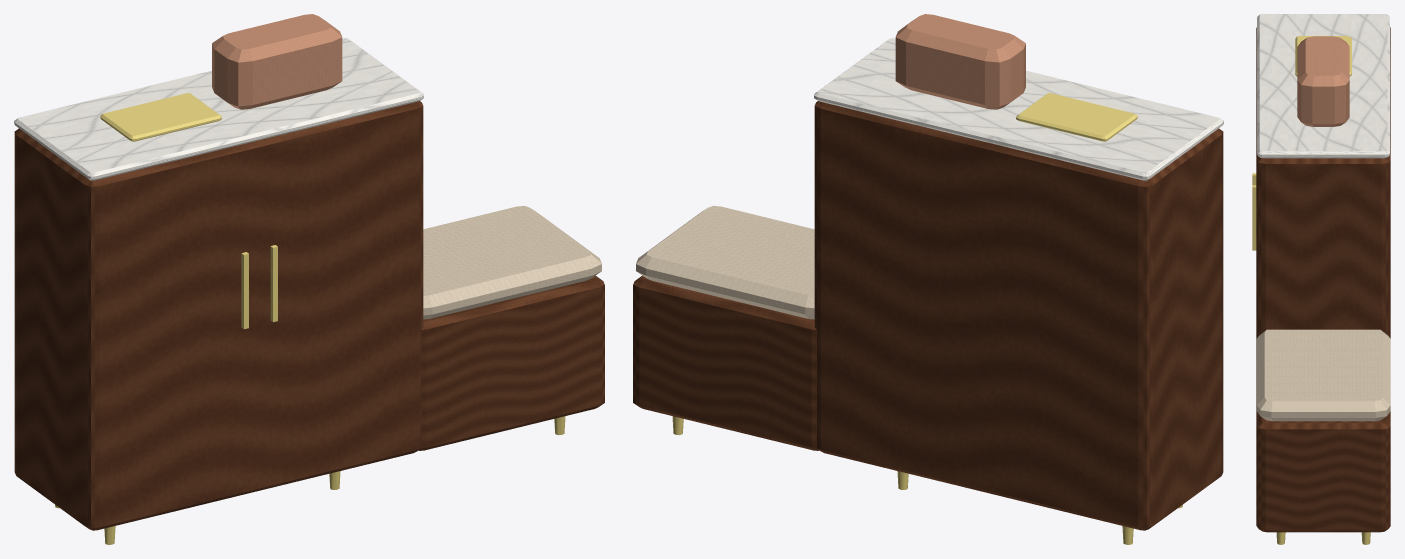
The model's file is entrance_shoe_cabinet.glb.
3 renders of one model, left to right at view 1: azimuth 30°, elevation 25°; view 2: azimuth 150°, elevation 25°; view 3: azimuth 270°, elevation 25°, orthographic. The views are drawn at different scales.
Parts seen in each view (by area): view 1: entrance_shoe_cabinet_woodWalnut, entrance_shoe_cabinet_marbleCarrara, entrance_shoe_cabinet_fabricLinen, entrance_shoe_cabinet_pillowTerra, entrance_shoe_cabinet_metalBrass; view 2: entrance_shoe_cabinet_woodWalnut, entrance_shoe_cabinet_marbleCarrara, entrance_shoe_cabinet_fabricLinen, entrance_shoe_cabinet_pillowTerra, entrance_shoe_cabinet_metalBrass; view 3: entrance_shoe_cabinet_woodWalnut, entrance_shoe_cabinet_marbleCarrara, entrance_shoe_cabinet_fabricLinen, entrance_shoe_cabinet_pillowTerra, entrance_shoe_cabinet_metalBrass.
Part boxes in pixels (<box>): entrance_shoe_cabinet_woodWalnut: <box>14,101,604,530</box>; entrance_shoe_cabinet_marbleCarrara: <box>14,38,423,180</box>; entrance_shoe_cabinet_fabricLinen: <box>423,205,601,319</box>; entrance_shoe_cabinet_pillowTerra: <box>212,14,342,109</box>; entrance_shoe_cabinet_metalBrass: <box>55,93,565,544</box>; entrance_shoe_cabinet_woodWalnut: <box>633,101,1223,530</box>; entrance_shoe_cabinet_marbleCarrara: <box>814,38,1223,180</box>; entrance_shoe_cabinet_fabricLinen: <box>636,205,814,319</box>; entrance_shoe_cabinet_pillowTerra: <box>895,14,1025,109</box>; entrance_shoe_cabinet_metalBrass: <box>672,93,1182,544</box>; entrance_shoe_cabinet_woodWalnut: <box>1256,27,1390,532</box>; entrance_shoe_cabinet_marbleCarrara: <box>1257,14,1389,158</box>; entrance_shoe_cabinet_fabricLinen: <box>1256,329,1390,421</box>; entrance_shoe_cabinet_pillowTerra: <box>1297,36,1349,126</box>; entrance_shoe_cabinet_metalBrass: <box>1252,36,1370,544</box>.
Size of what is drawn, in the model's own units: 1.4 by 1.15 by 0.38.
Materials: 6 (5 with a texture image).
